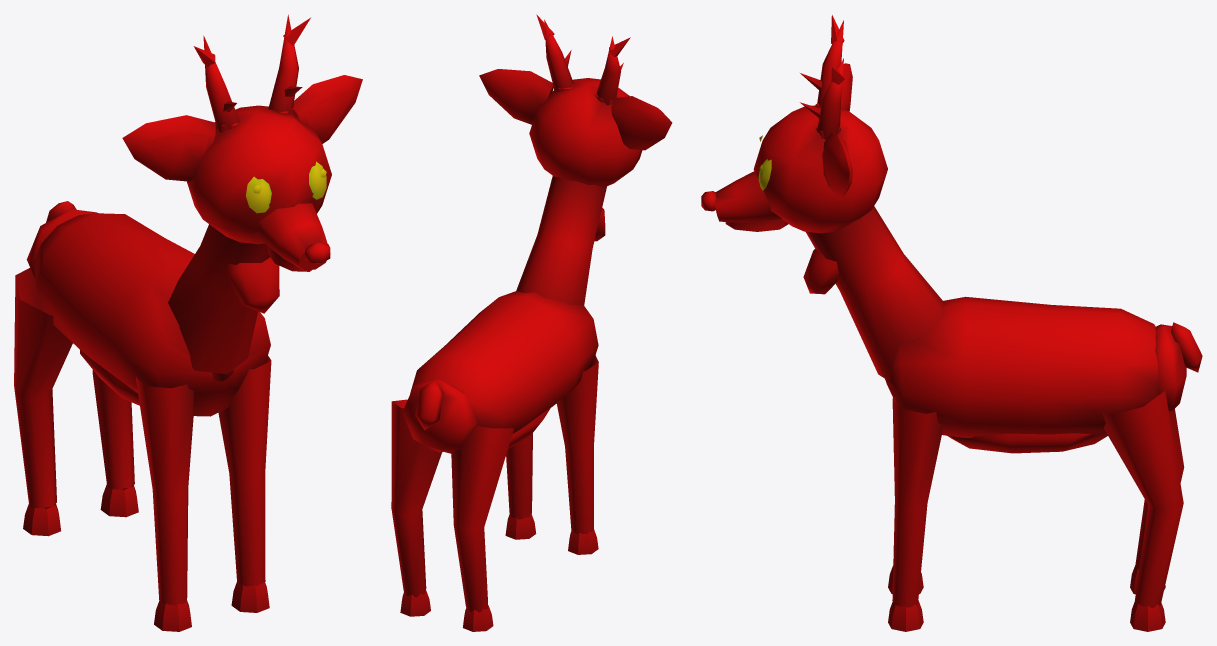
The model's file is DeerAnimal.glb.
The picture shows the model from 3 angles, left to right: view 1: azimuth 30°, elevation 25°; view 2: azimuth 150°, elevation 25°; view 3: azimuth 270°, elevation 25°; orthographic projection. The views are drawn at different scales.
Parts seen in each view (by area): view 1: DeerAnimal; view 2: DeerAnimal; view 3: DeerAnimal.
Part boxes in pixels (x1,y1,x2,y2): DeerAnimal: (14,14,362,631); DeerAnimal: (391,14,672,631); DeerAnimal: (701,15,1202,631).
Size of the model in its own units: 0.4205 by 1.03 by 0.8202.
